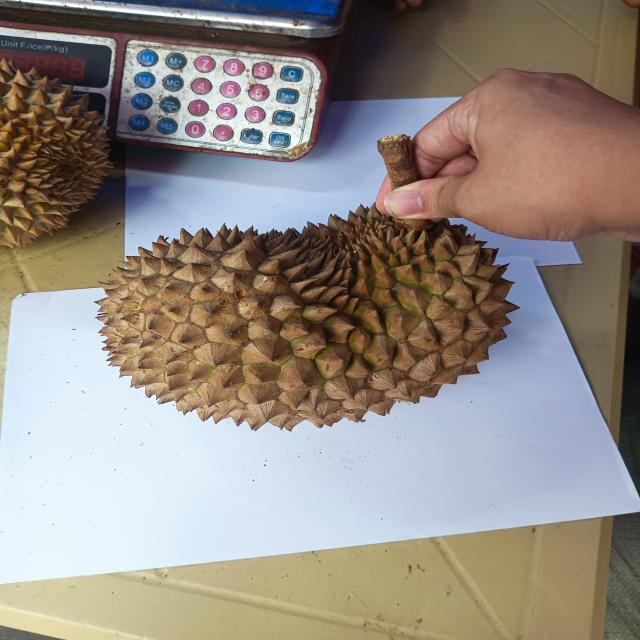mature: (100, 206, 516, 429), (0, 54, 112, 262)
